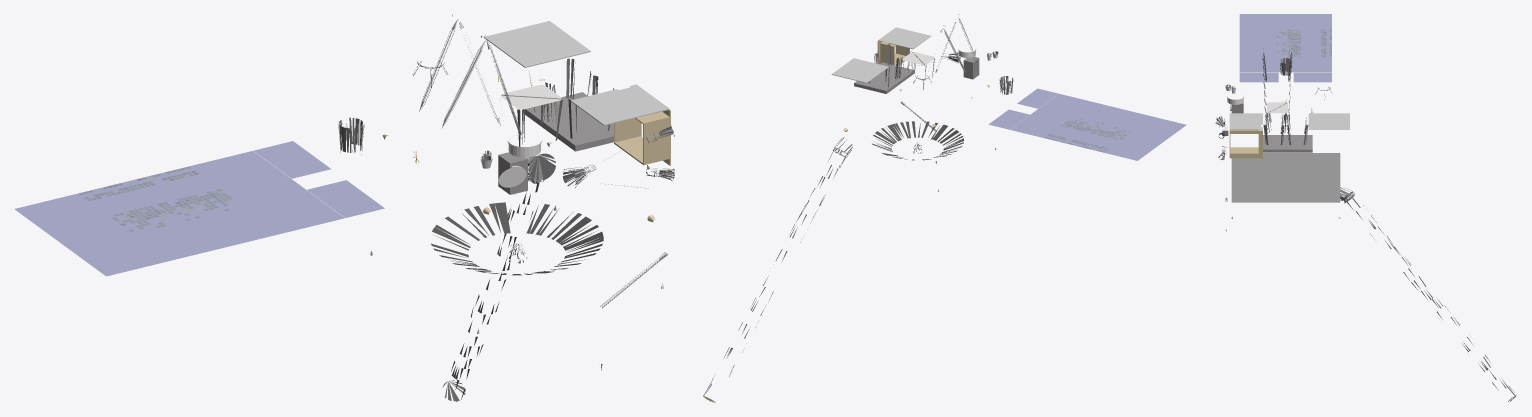
Rendered from goes.glb.
The picture shows the model from 3 angles, left to right: view 1: azimuth 30°, elevation 25°; view 2: azimuth 150°, elevation 25°; view 3: azimuth 270°, elevation 25°; orthographic projection. The views are drawn at different scales.
Parts seen in each view (by area): view 1: goes_17, goes_6, goes_14, goes_10, goes_1, goes_4, goes_18, goes_12, goes_15; view 2: goes_17, goes_6, goes_1, goes_10, goes_14, goes_4, goes_12; view 3: goes_17, goes_23, goes_6, goes_14, goes_10, goes_4, goes_12, goes_18.
Part boxes in pixels (bbox=[...]): goes_17: bbox=[14, 141, 384, 276]; goes_6: bbox=[484, 21, 669, 187]; goes_14: bbox=[338, 14, 666, 370]; goes_10: bbox=[338, 92, 613, 194]; goes_1: bbox=[431, 202, 603, 275]; goes_4: bbox=[614, 110, 670, 165]; goes_18: bbox=[84, 166, 229, 231]; goes_12: bbox=[442, 180, 539, 401]; goes_15: bbox=[501, 85, 561, 109]; goes_17: bbox=[988, 88, 1186, 160]; goes_6: bbox=[831, 27, 930, 83]; goes_1: bbox=[872, 121, 963, 160]; goes_10: bbox=[854, 57, 1012, 93]; goes_14: bbox=[703, 14, 1013, 402]; goes_4: bbox=[877, 40, 909, 65]; goes_12: bbox=[703, 151, 845, 401]; goes_17: bbox=[1239, 14, 1331, 82]; goes_23: bbox=[1231, 153, 1340, 202]; goes_6: bbox=[1229, 104, 1349, 129]; goes_14: bbox=[1225, 48, 1354, 231]; goes_10: bbox=[1231, 59, 1312, 152]; goes_4: bbox=[1229, 129, 1262, 158]; goes_12: bbox=[1347, 195, 1516, 401]; goes_18: bbox=[1276, 29, 1331, 56].
Size of the model in its own units: 0.1344 by 0.122 by 0.1113.
